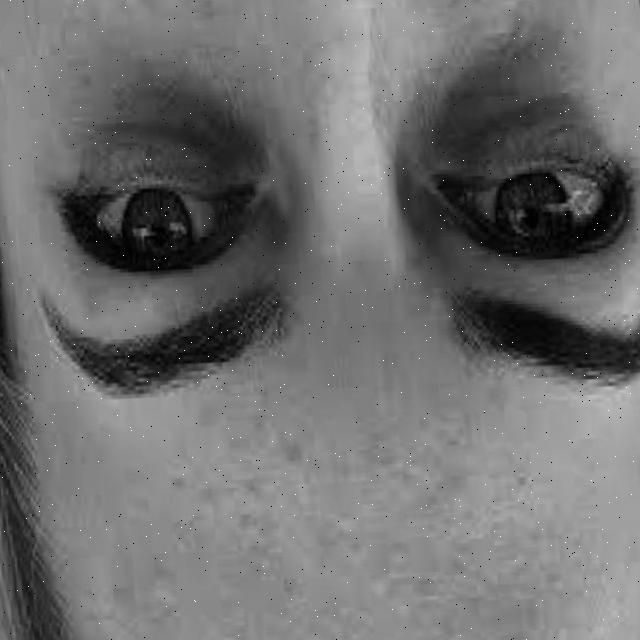puffy_eyes: (440, 57, 603, 171), (93, 83, 267, 181)
